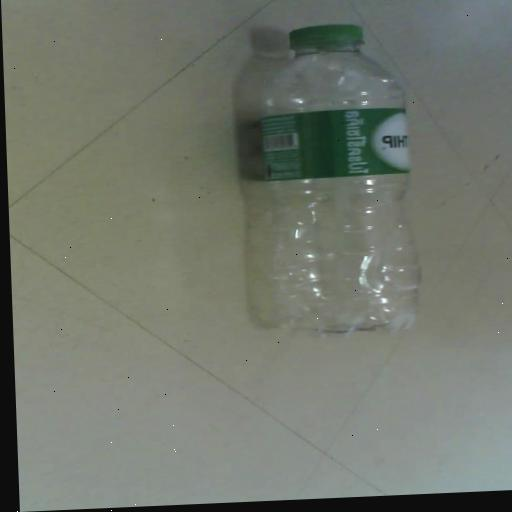bottle: (207, 0, 460, 354)
